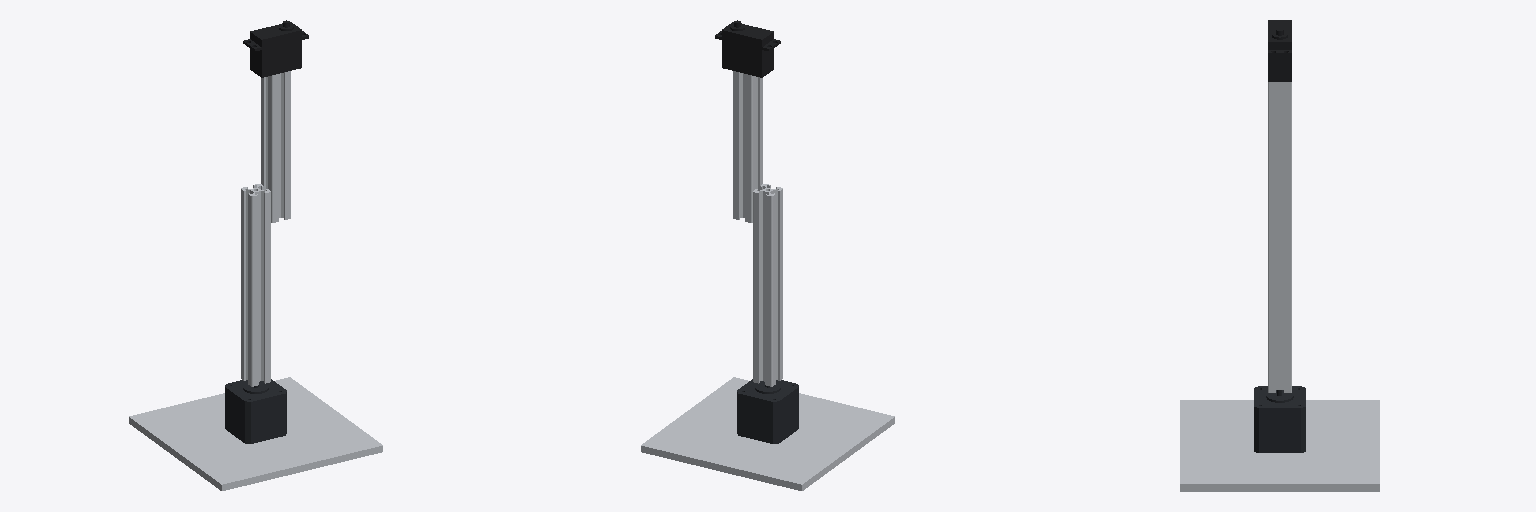
URDF robot description (stock_arm):
<?xml version="1.0" encoding="utf-8"?>
<!-- CAD Modeler robot export. SI units (m, kg, rad), Z up. Generated 2026-10-08T14:17:32.105Z -->
<robot name="stock_arm">
  <material name="mat_c9cdd2"><color rgba="0.7882 0.8039 0.8235 1"/></material>
  <material name="mat_34373c_1"><color rgba="0.2039 0.2157 0.2353 1"/></material>
  <material name="mat_2c2d30_2"><color rgba="0.1725 0.1765 0.1882 1"/></material>
  <link name="Base_Plate">
    <inertial>
      <origin xyz="0 0 0.003175" rpy="0 0 0"/>
      <mass value="0.438912"/>
      <inertia ixx="0.0009378204" ixy="1.609325e-19" ixz="1.609325e-19" iyy="0.0009378204" iyz="1.609325e-19" izz="0.001872691"/>
    </inertial>
    <visual name="Base_Plate__1_4_Aluminum_Plate_160_160_mm">
      <origin xyz="0 0 0" rpy="0 0 0"/>
      <geometry><mesh filename="meshes/Base_Plate__1_4_Aluminum_Plate_160_160_mm.obj"/></geometry>
      <material name="mat_c9cdd2"/>
    </visual>
    <collision name="Base_Plate__1_4_Aluminum_Plate_160_160_mm_collision">
      <origin xyz="0 0 0" rpy="0 0 0"/>
      <geometry><mesh filename="meshes/Base_Plate__1_4_Aluminum_Plate_160_160_mm.obj"/></geometry>
    </collision>
  </link>
  <link name="Yaw_Motor">
    <inertial>
      <origin xyz="0 -6.935396e-7 0.02039105" rpy="0 0 0"/>
      <mass value="0.1927071"/>
      <inertia ixx="0.00005481448" ixy="1.005828e-20" ixz="0" iyy="0.00005481475" iyz="4.358186e-9" izz="0.00005492026"/>
    </inertial>
    <visual name="Yaw_Motor__NEMA_17_Stepper_40_mm">
      <origin xyz="0 0 0" rpy="0 0 0"/>
      <geometry><mesh filename="meshes/Yaw_Motor__NEMA_17_Stepper_40_mm.obj"/></geometry>
      <material name="mat_34373c_1"/>
    </visual>
    <collision name="Yaw_Motor__NEMA_17_Stepper_40_mm_collision">
      <origin xyz="0 0 0" rpy="0 0 0"/>
      <geometry><mesh filename="meshes/Yaw_Motor__NEMA_17_Stepper_40_mm.obj"/></geometry>
    </collision>
  </link>
  <link name="Upper_Arm">
    <inertial>
      <origin xyz="0 0 0.09" rpy="0 0 0"/>
      <mass value="0.08684364"/>
      <inertia ixx="0.0002380189" ixy="4.023314e-20" ixz="2.011657e-20" iyy="0.0002380189" iyz="2.011657e-20" izz="0.000007082249"/>
    </inertial>
    <visual name="Upper_Arm__2020_T_slot_180_mm">
      <origin xyz="0 0 0" rpy="0 0 0"/>
      <geometry><mesh filename="meshes/Upper_Arm__2020_T_slot_180_mm.obj"/></geometry>
      <material name="mat_c9cdd2"/>
    </visual>
    <collision name="Upper_Arm__2020_T_slot_180_mm_collision">
      <origin xyz="0 0 0" rpy="0 0 0"/>
      <geometry><mesh filename="meshes/Upper_Arm__2020_T_slot_180_mm.obj"/></geometry>
    </collision>
  </link>
  <link name="Forearm">
    <inertial>
      <origin xyz="0 0.055 0.01" rpy="0 0 0"/>
      <mass value="0.06754505"/>
      <inertia ixx="0.0001130778" ixy="1.005828e-20" ixz="2.011657e-20" iyy="0.000005508416" iyz="1.005828e-20" izz="0.0001130778"/>
    </inertial>
    <visual name="Forearm__2020_T_slot_140_mm">
      <origin xyz="0 0 0" rpy="0 0 0"/>
      <geometry><mesh filename="meshes/Forearm__2020_T_slot_140_mm.obj"/></geometry>
      <material name="mat_c9cdd2"/>
    </visual>
    <collision name="Forearm__2020_T_slot_140_mm_collision">
      <origin xyz="0 0 0" rpy="0 0 0"/>
      <geometry><mesh filename="meshes/Forearm__2020_T_slot_140_mm.obj"/></geometry>
    </collision>
  </link>
  <link name="Wrist_Servo">
    <inertial>
      <origin xyz="0.0001273327 0 0.01843518" rpy="0 0 0"/>
      <mass value="0.03121664"/>
      <inertia ixx="0.000004484708" ixy="9.778887e-22" ixz="-7.735588e-8" iyy="0.000007953683" iyz="0" izz="0.000005491031"/>
    </inertial>
    <visual name="Wrist_Servo__Standard_Servo">
      <origin xyz="0 0 0" rpy="0 0 0"/>
      <geometry><mesh filename="meshes/Wrist_Servo__Standard_Servo.obj"/></geometry>
      <material name="mat_2c2d30_2"/>
    </visual>
    <collision name="Wrist_Servo__Standard_Servo_collision">
      <origin xyz="0 0 0" rpy="0 0 0"/>
      <geometry><mesh filename="meshes/Wrist_Servo__Standard_Servo.obj"/></geometry>
    </collision>
  </link>
  <joint name="Motor_Mount" type="fixed">
    <parent link="Base_Plate"/>
    <child link="Yaw_Motor"/>
    <origin xyz="0 0 0.00635" rpy="0 0 0"/>
  </joint>
  <joint name="Base_Yaw" type="continuous">
    <parent link="Yaw_Motor"/>
    <child link="Upper_Arm"/>
    <origin xyz="0 0 0.048" rpy="0 0 0"/>
    <axis xyz="0 0 1"/>
    <limit effort="100" velocity="6.283185"/>
    <dynamics damping="10" friction="0"/>
  </joint>
  <joint name="Shoulder" type="revolute">
    <parent link="Upper_Arm"/>
    <child link="Forearm"/>
    <origin xyz="0.01 0 0.165" rpy="1.570796 0 1.570796"/>
    <axis xyz="0 0 1"/>
    <limit lower="-2.094395" upper="2.094395" effort="100" velocity="6.283185"/>
    <dynamics damping="10" friction="0"/>
  </joint>
  <joint name="Wrist_Mount" type="fixed">
    <parent link="Forearm"/>
    <child link="Wrist_Servo"/>
    <origin xyz="0 0.125 0.01" rpy="-1.570796 -1.570796 0"/>
  </joint>
</robot>

--- Facts derived from the render (not from the file) ---
Views: 3 orthographic renders of the robot side by side, from view 1: azimuth 30°, elevation 25°; view 2: azimuth 150°, elevation 25°; view 3: azimuth 270°, elevation 25°.
Model stock_arm with 5 links and 4 joints (1 revolute, 1 continuous, 2 fixed), rooted at Base_Plate, posed all joints at 0.
Visible links, largest first — view 1: Base_Plate, Upper_Arm, Forearm, Yaw_Motor, Wrist_Servo; view 2: Base_Plate, Upper_Arm, Forearm, Yaw_Motor, Wrist_Servo; view 3: Base_Plate, Upper_Arm, Forearm, Yaw_Motor, Wrist_Servo.
Boxes of the visible links, bbox=[...] form: Base_Plate: bbox=[129, 377, 382, 490]; Upper_Arm: bbox=[241, 184, 270, 386]; Forearm: bbox=[261, 71, 290, 222]; Yaw_Motor: bbox=[225, 379, 286, 443]; Wrist_Servo: bbox=[243, 20, 308, 77]; Base_Plate: bbox=[641, 377, 894, 490]; Upper_Arm: bbox=[753, 184, 782, 386]; Forearm: bbox=[733, 71, 762, 222]; Yaw_Motor: bbox=[737, 379, 798, 443]; Wrist_Servo: bbox=[715, 20, 780, 77]; Base_Plate: bbox=[1180, 400, 1379, 491]; Upper_Arm: bbox=[1268, 232, 1291, 392]; Forearm: bbox=[1268, 82, 1291, 234]; Yaw_Motor: bbox=[1254, 386, 1305, 452]; Wrist_Servo: bbox=[1268, 20, 1291, 81].
Bounding box of the posed robot: 0.16 × 0.16 × 0.3864 m (x, y, z).
5 mesh visuals loaded from 5 distinct referenced files (5 OBJ).
